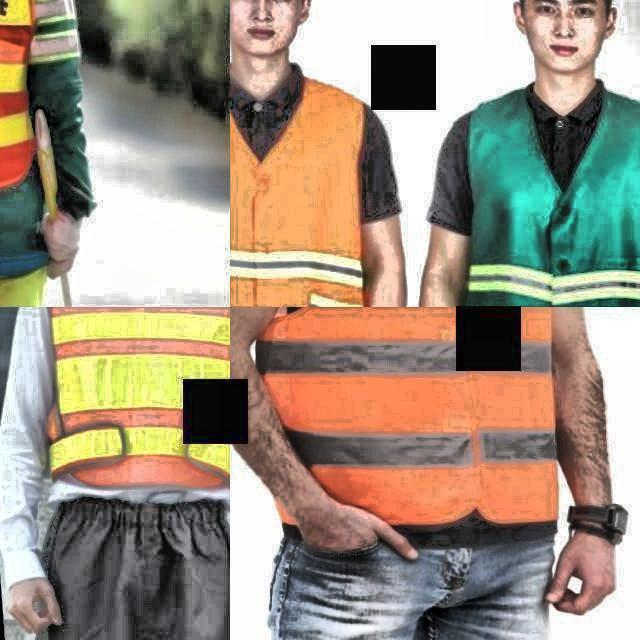safety_jacket: (247, 307, 599, 556), (442, 94, 640, 307), (24, 307, 230, 506), (230, 80, 379, 307)
